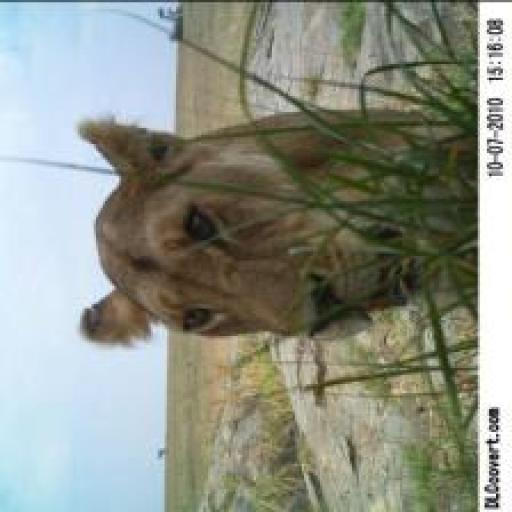lion: (41, 105, 482, 368)
